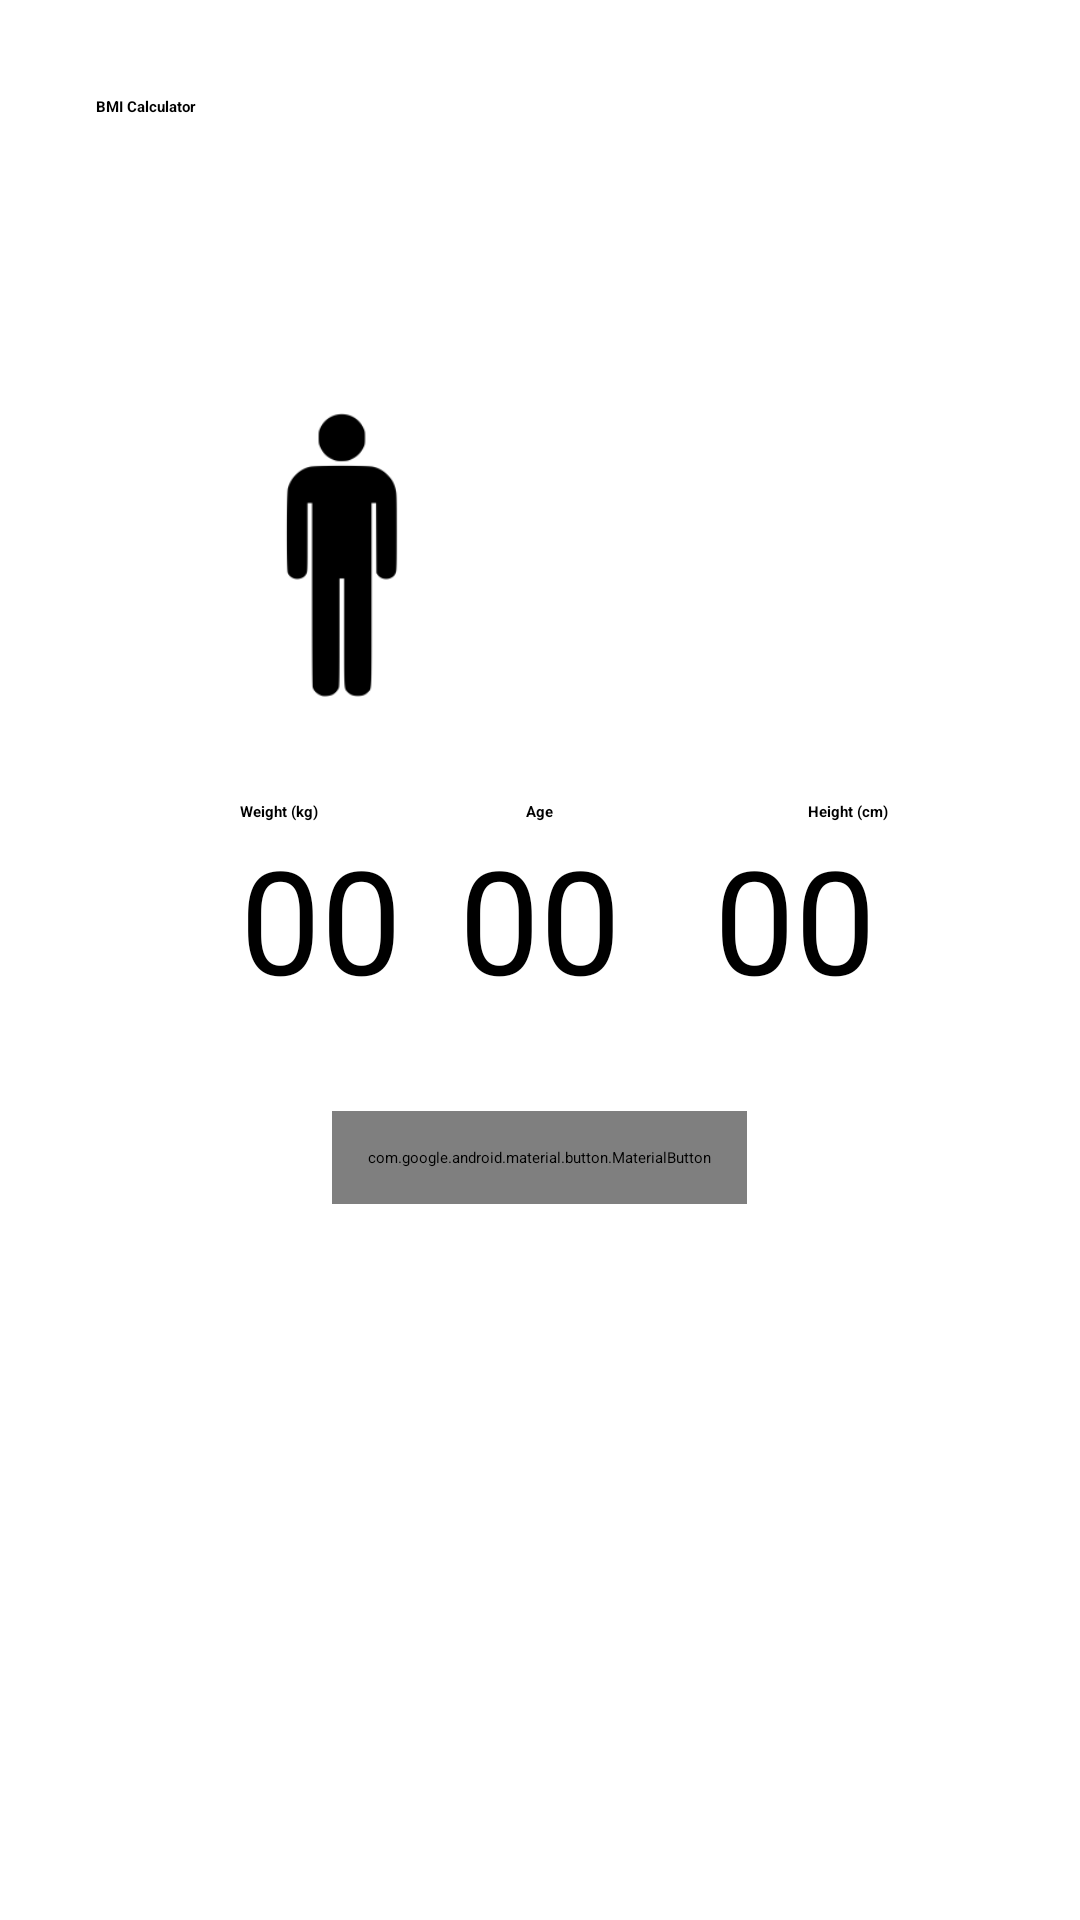

Locate icon controls on the screen. Image size 1080×1920, boxes as (x1, y1, x2, y2).
male: (286, 413, 398, 697)
